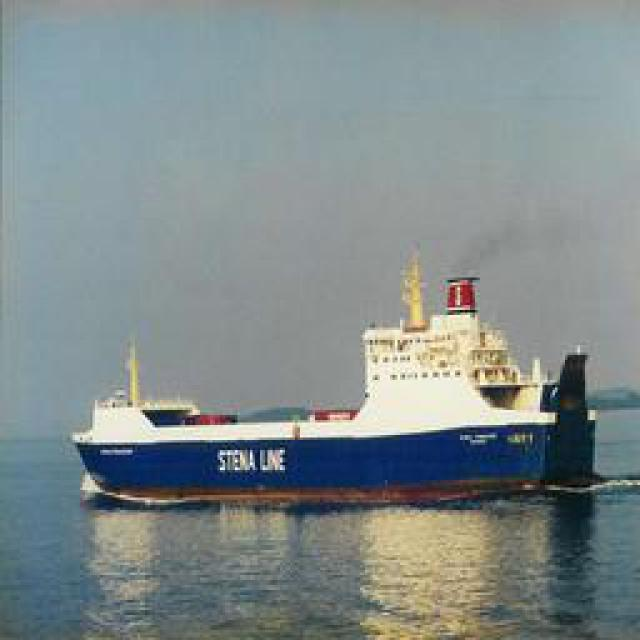Ship: (68, 261, 623, 501)
